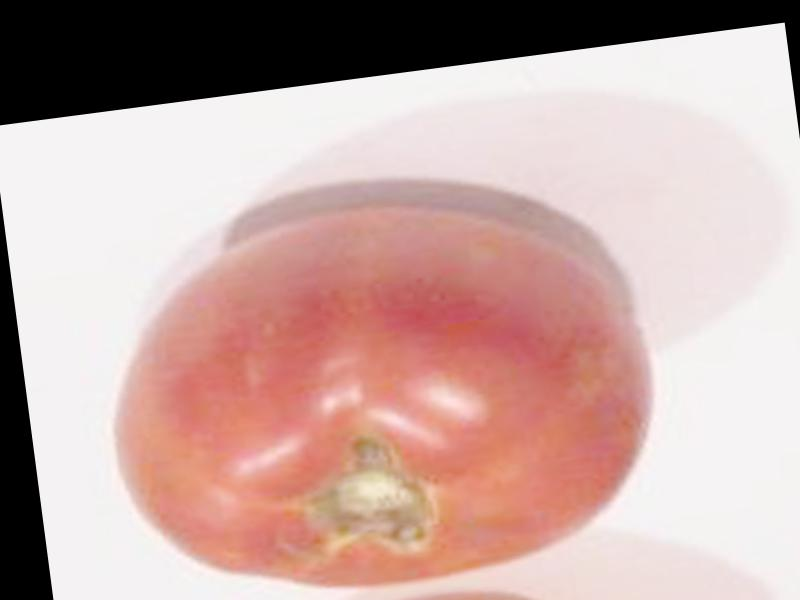Tomato: (89, 180, 668, 600)
